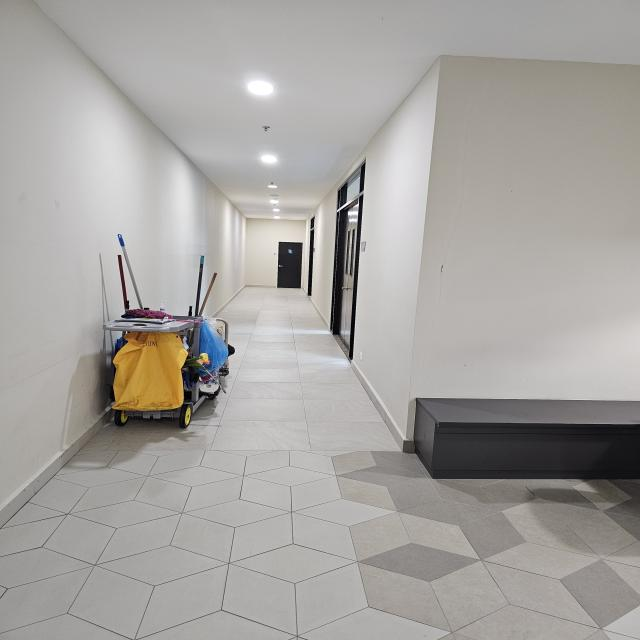door: (270, 236, 304, 290)
footpath: (41, 489, 640, 640)
obstacle: (96, 233, 237, 432), (410, 394, 638, 481)
